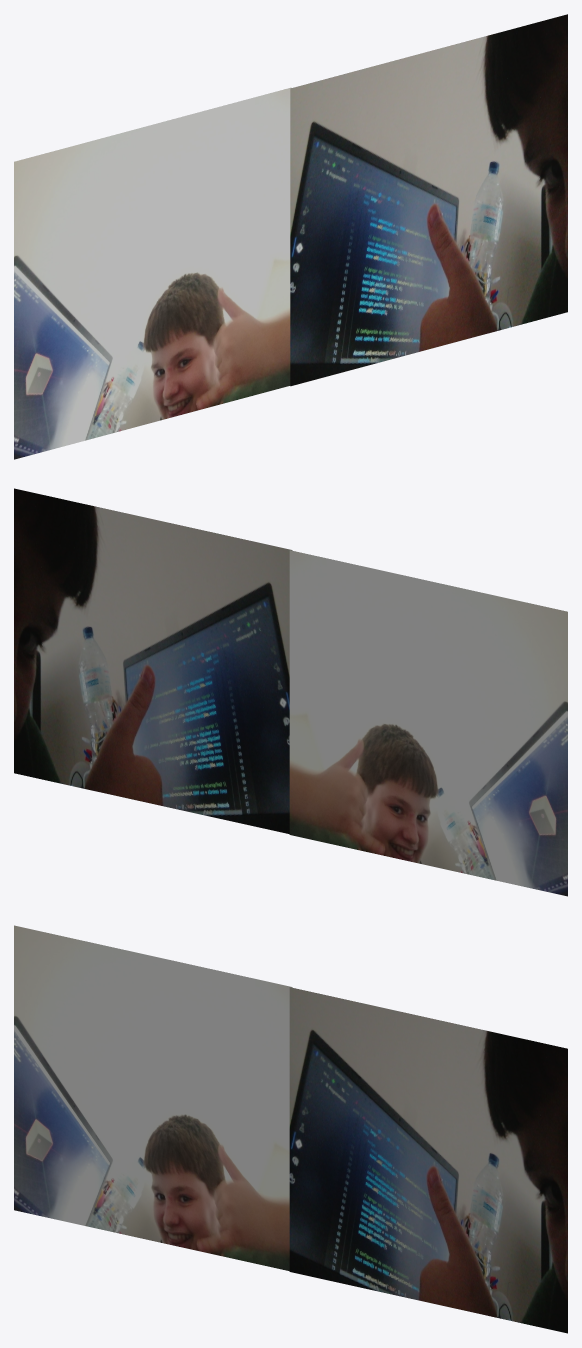
The model's file is HugoModelo.glb.
The picture shows the model from 3 angles, top to bottom: view 1: azimuth 30°, elevation 25°; view 2: azimuth 150°, elevation 25°; view 3: azimuth 330°, elevation 25°; orthographic projection. The views are drawn at different scales.
Visible parts, largest first — view 1: Plane, Plane.001; view 2: Plane.001, Plane; view 3: Plane, Plane.001.
Boxes of the visible parts, x1,y1,x2,y2 form: Plane: (290,14,567,386); Plane.001: (14,87,291,459); Plane.001: (289,550,567,896); Plane: (14,488,292,834); Plane: (289,987,567,1333); Plane.001: (14,925,292,1271).
Bounding box in the file's own units: 25.69 × 12.91 × 1.
2 materials, 2 textured.
